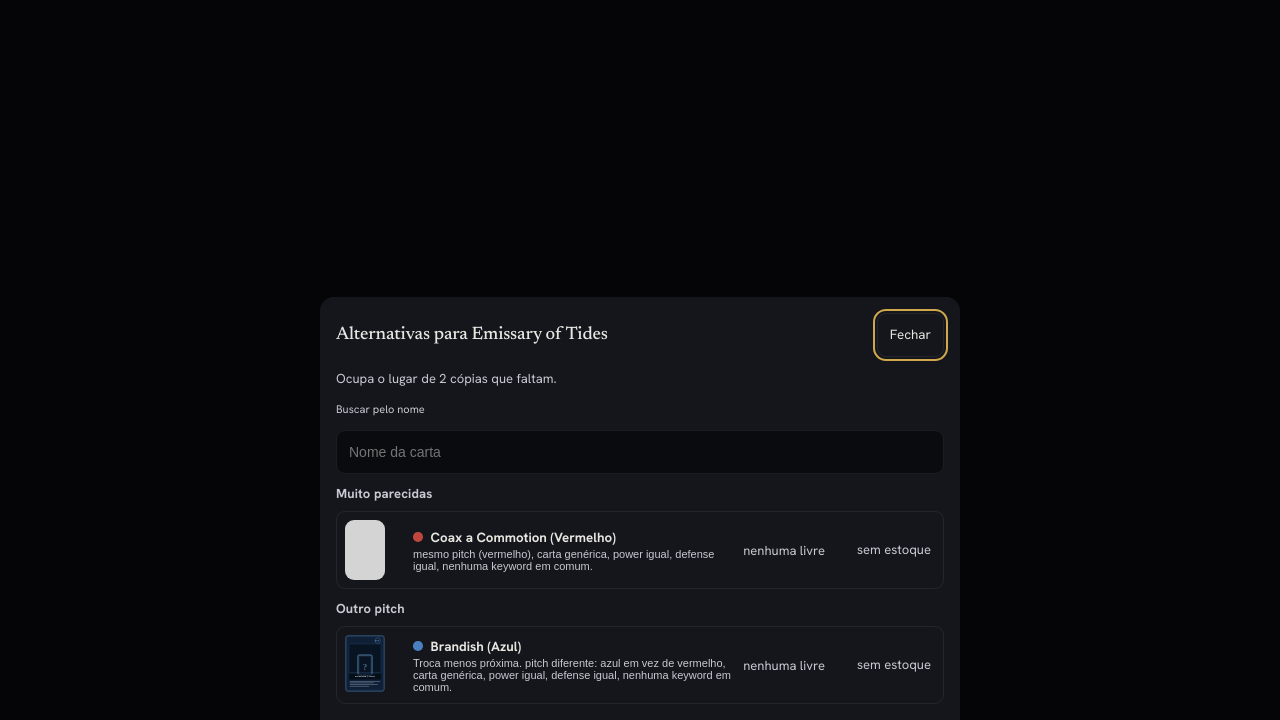
Test: AlternativesSheet › searches by name from 2 characters
Check: the element with test id "alternatives-group-very_close" is shown, box top-left (336, 486), bottom-right (944, 589)
Type "s" into the search field at (640, 452), box top-left (336, 430), bottom-right (944, 474)
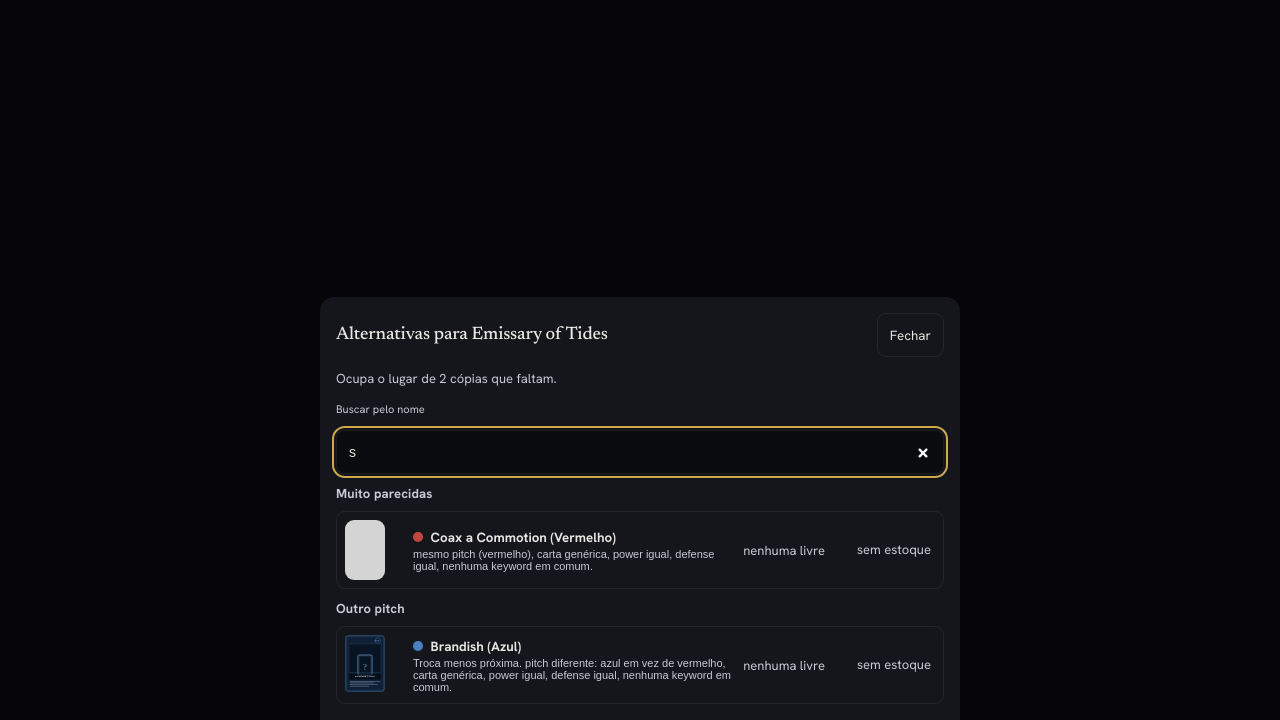
Type "i" into the search field at (640, 452), box top-left (336, 430), bottom-right (944, 474)
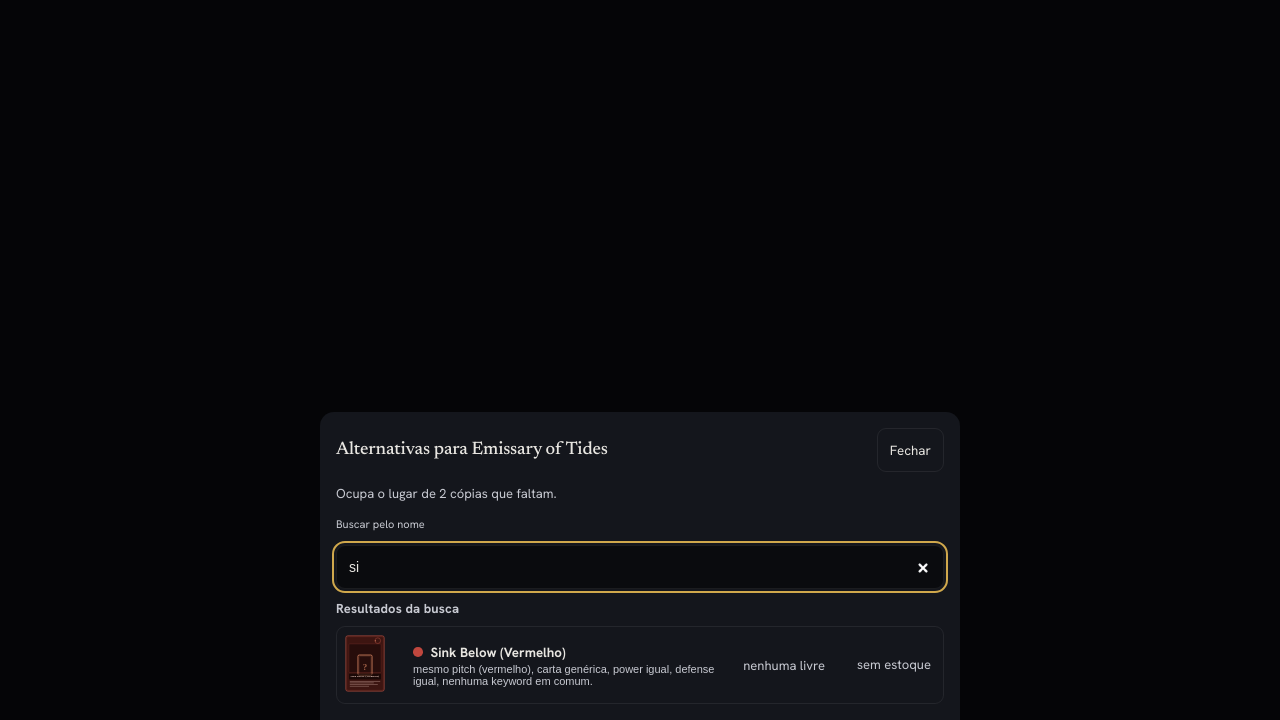
Check: the element with test id "alternatives-group-search" is shown, box top-left (336, 601), bottom-right (944, 704)
Check: the element with test id "alternatives-group-very_close" is gone
Check: the element with test id "alternatives-group-search" shows "Sink Below", box top-left (337, 627), bottom-right (393, 703)
